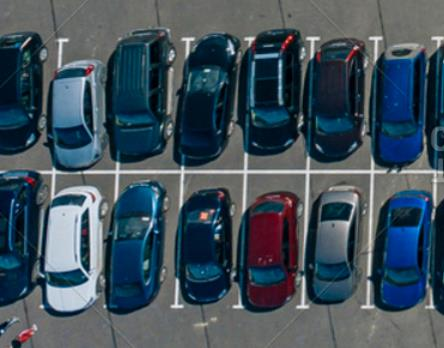car: (39, 185, 108, 316), (107, 29, 175, 159), (104, 180, 170, 309), (177, 30, 240, 159), (372, 190, 435, 311), (245, 28, 305, 155), (371, 44, 430, 169), (308, 39, 367, 160), (176, 186, 235, 305), (241, 191, 301, 308), (306, 185, 364, 305), (46, 59, 106, 171)
